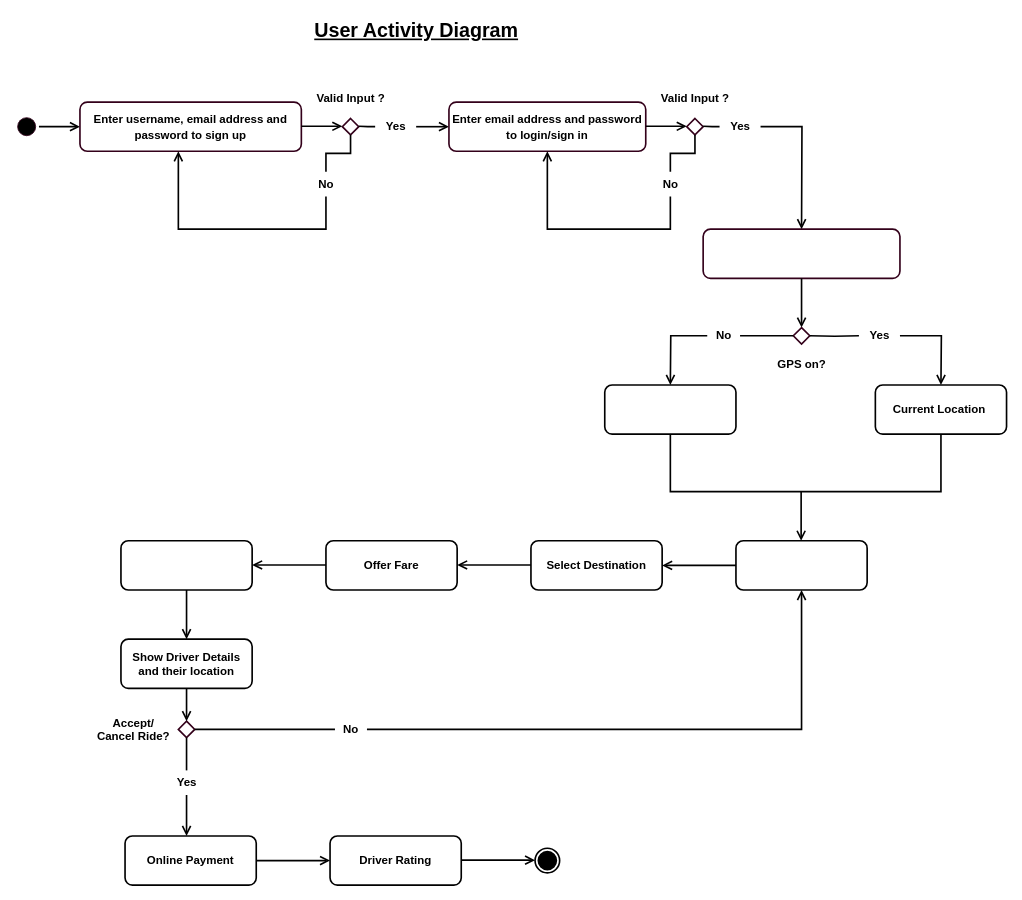
Image size: 1022x900. Some labels were removed from this diagram. The shapes that lost their labels are listed below. From the top down, each one's centre as x and y in pixels, then its label:
At [801,253]: "Detect Current Location".
At [670,409]: "Select Location".
At [186,565]: "Request a ride".
At [801,565]: "Choose Type of Transport Services".
